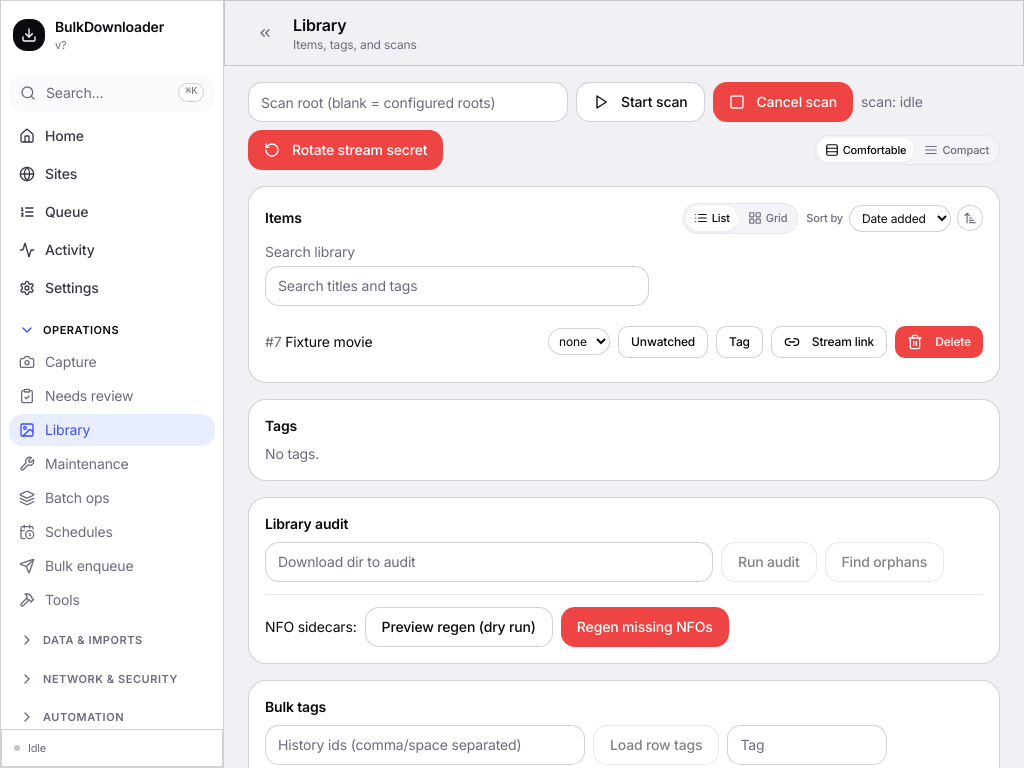
T9a live and stream runtime wiring › mints a stream token for the row's real history id
Click the button "Stream link". click: [829, 342]
box: x1=771 y1=326 x2=887 y2=358
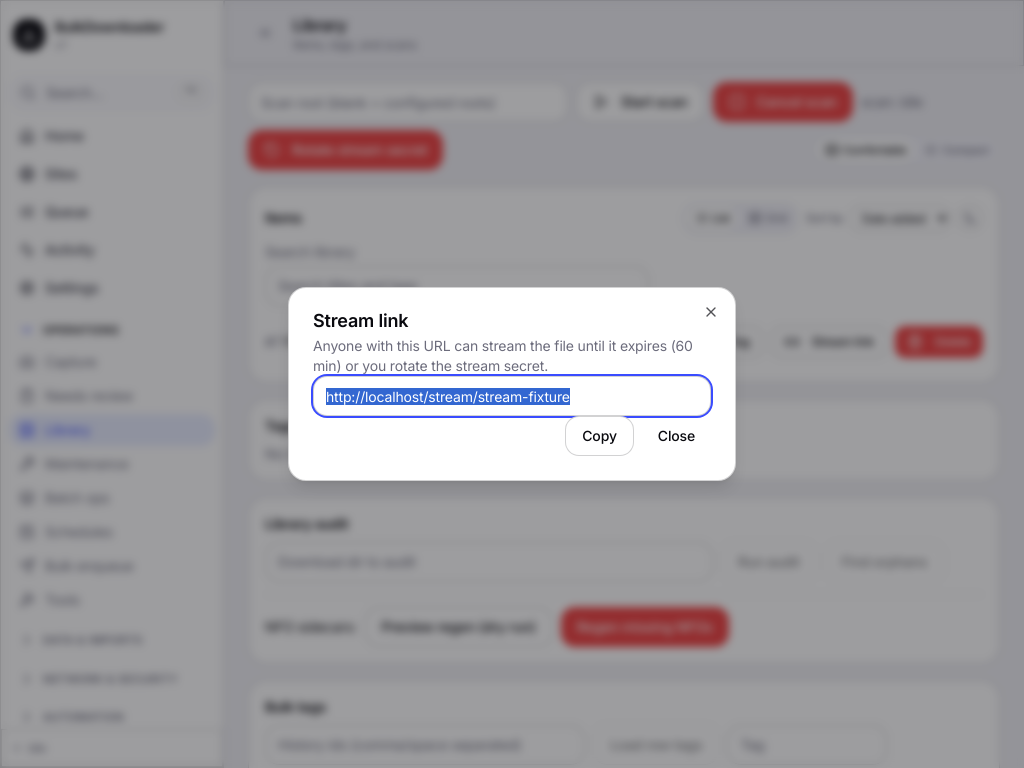
Expected: the field showing "stream-fixture" is shown, x1=313 y1=376 x2=711 y2=416
